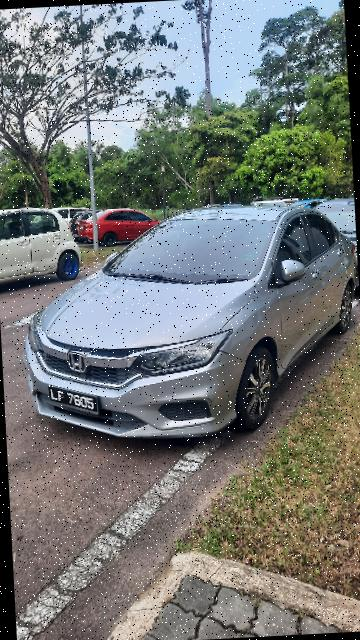License_Plate: (46, 380, 103, 419)
car: (14, 198, 360, 454), (1, 199, 89, 292), (73, 204, 184, 250)
